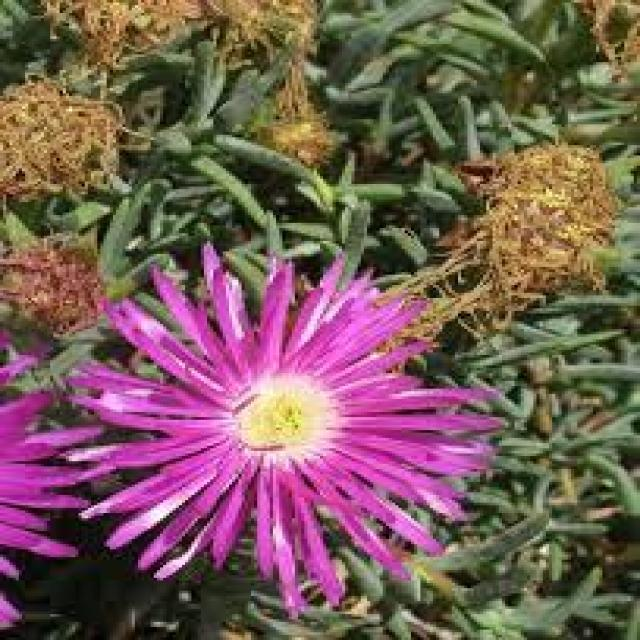organic waste: (63, 245, 489, 602)
